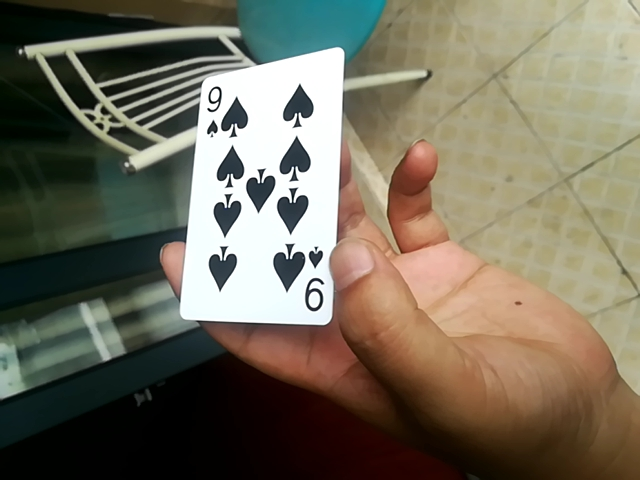ht 9: (170, 40, 340, 326)
